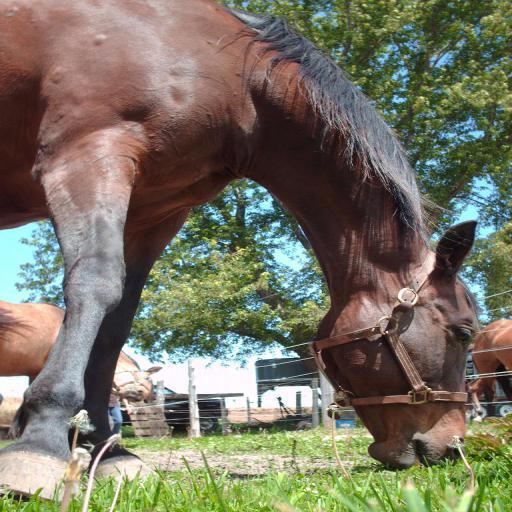horse: (0, 0, 484, 505), (0, 298, 164, 404), (468, 316, 511, 418)
